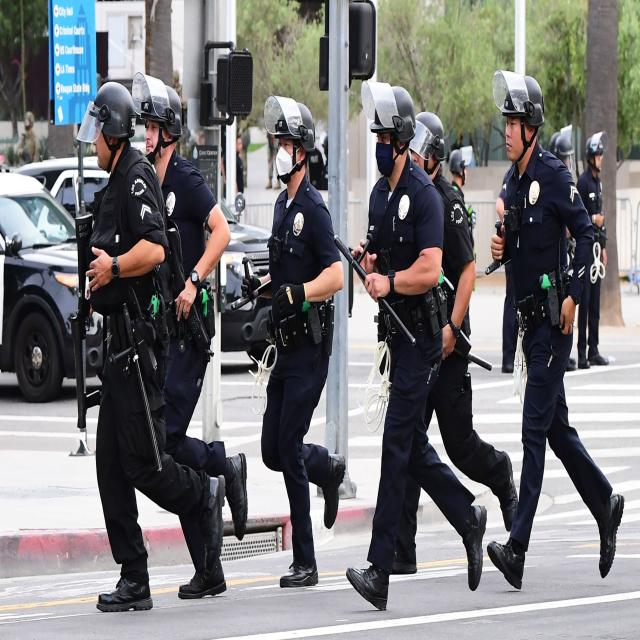police: (70, 72, 214, 623), (488, 56, 626, 589), (348, 65, 486, 598), (240, 87, 345, 580)
